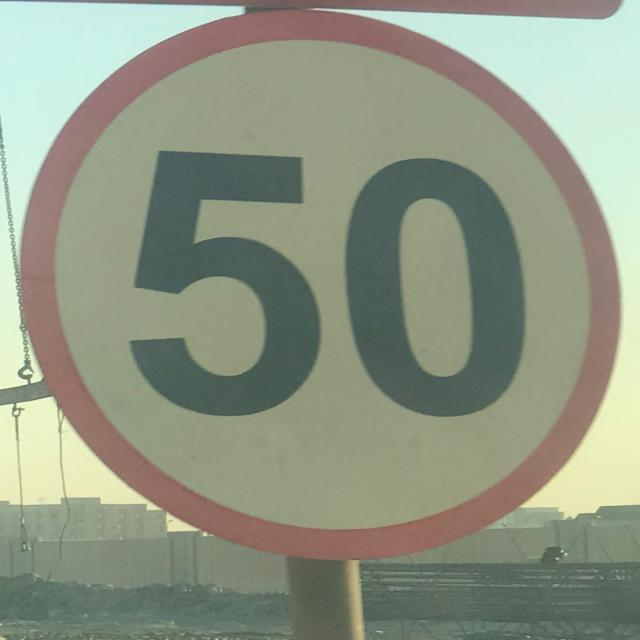Limite-50: (16, 6, 623, 561)
